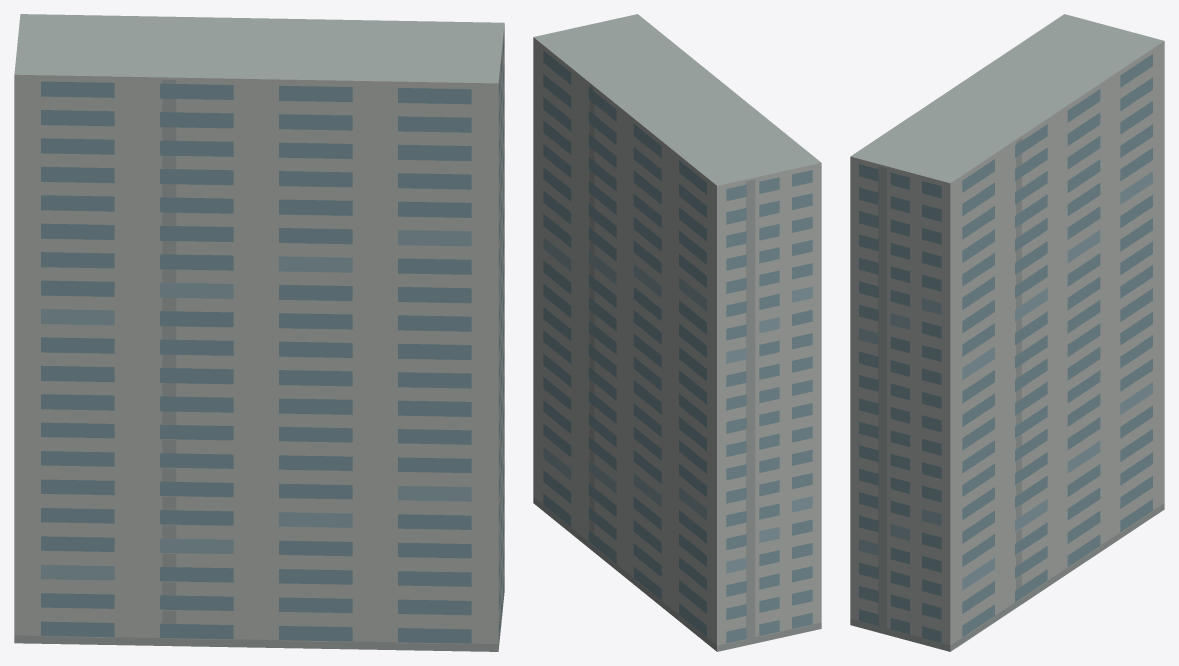
File: residential-b6e4451d-0822-46cf-acbe-ff039c69cc63.glb
3 renders of one model, left to right at view 1: azimuth 30°, elevation 25°; view 2: azimuth 150°, elevation 25°; view 3: azimuth 270°, elevation 25°, orthographic. The views are drawn at different scales.
Visible parts, largest first — view 1: residential-b6e4451d-0822-46cf-acbe-ff039c69cc63.tmp; view 2: residential-b6e4451d-0822-46cf-acbe-ff039c69cc63.tmp; view 3: residential-b6e4451d-0822-46cf-acbe-ff039c69cc63.tmp.
Part boxes in pixels (x1,y1,x2,y2): residential-b6e4451d-0822-46cf-acbe-ff039c69cc63.tmp: (14,14,504,651); residential-b6e4451d-0822-46cf-acbe-ff039c69cc63.tmp: (533,14,821,651); residential-b6e4451d-0822-46cf-acbe-ff039c69cc63.tmp: (850,14,1164,651).
Size of the model in its own units: 41.85 by 54 by 32.83.
